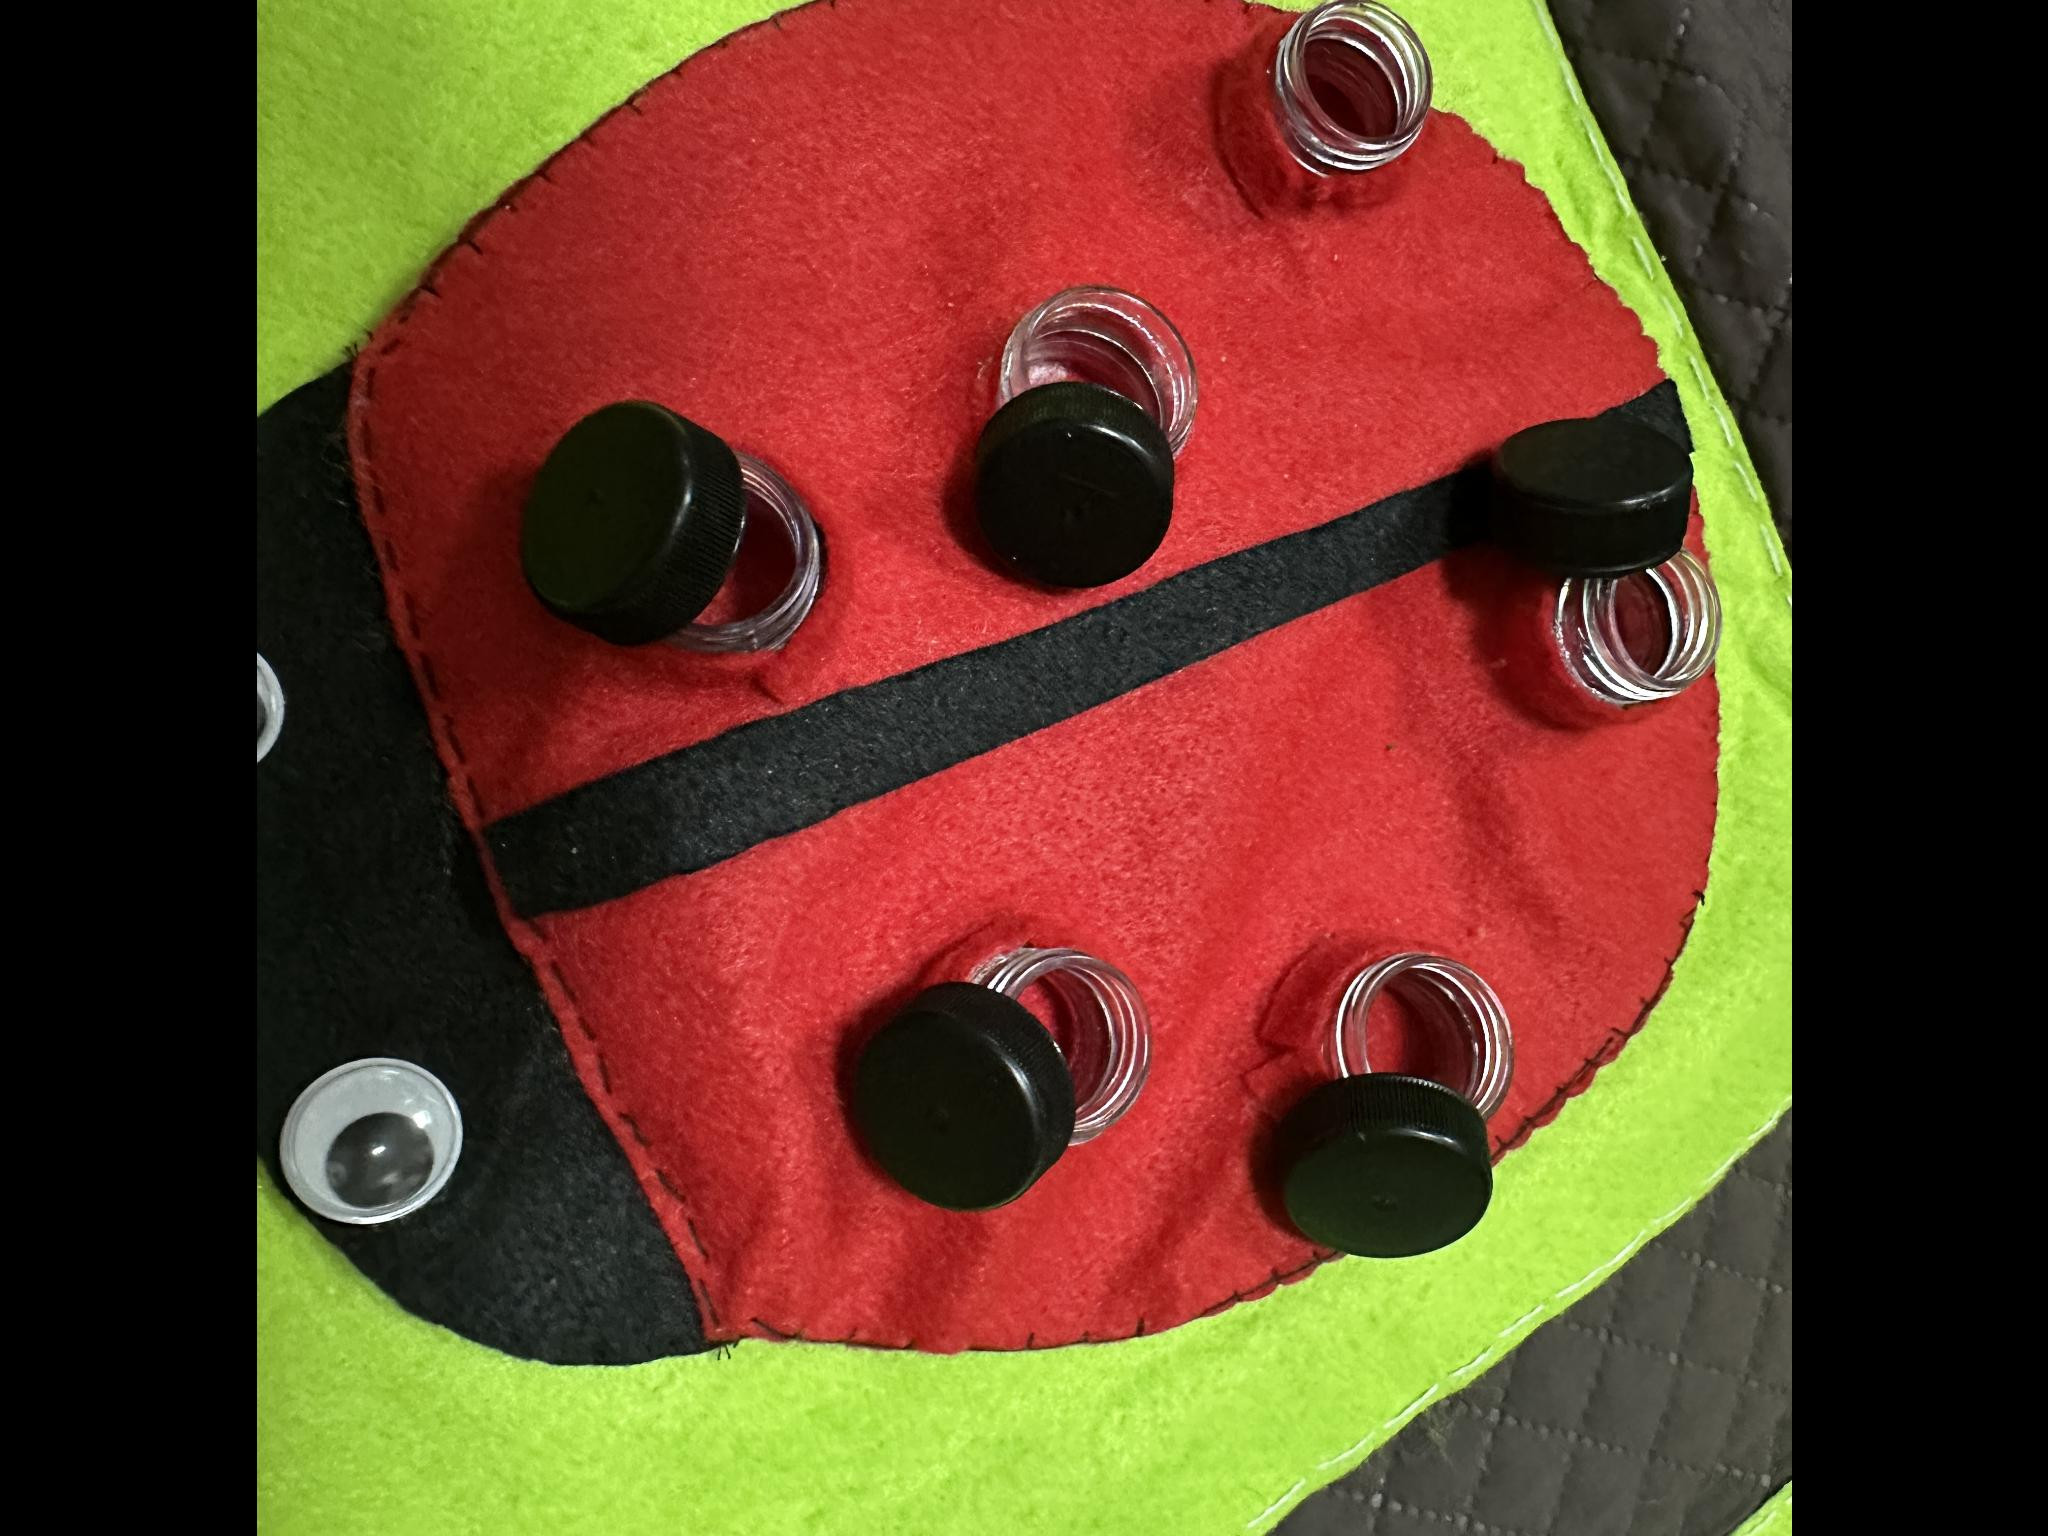cap_ng: (830, 913, 1177, 1239), (1243, 921, 1538, 1286), (500, 395, 851, 666), (937, 265, 1219, 595), (1461, 395, 1737, 733)
